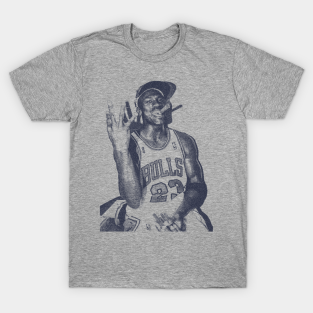design: (98, 79, 215, 233)
